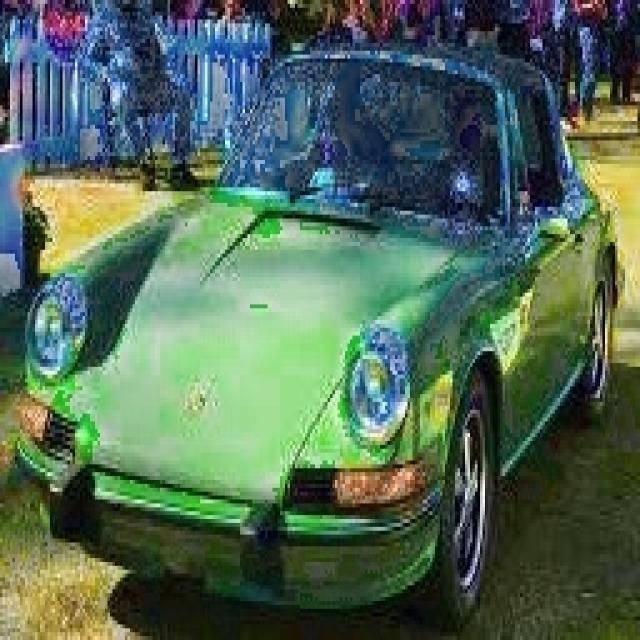green: (10, 39, 635, 640)
